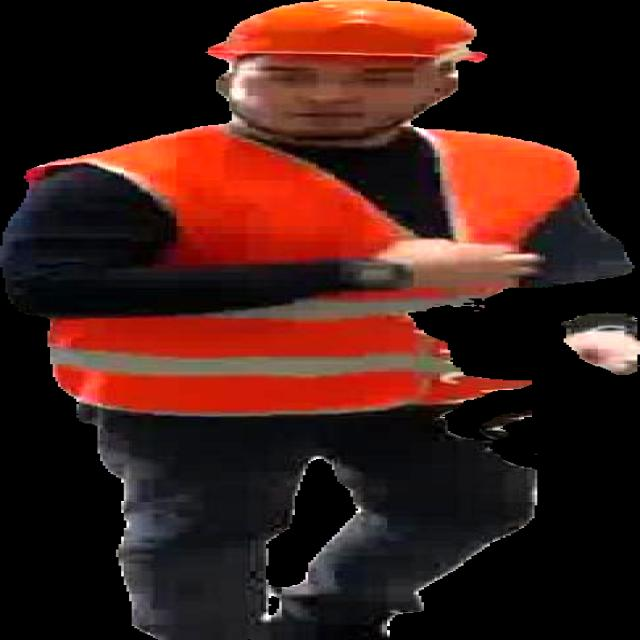Pessoa: (0, 0, 634, 639)
